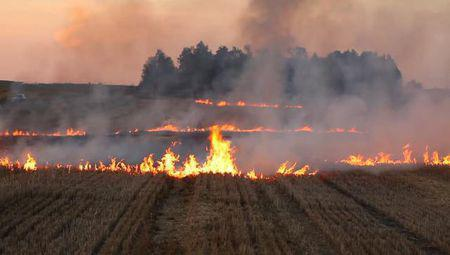fire: (1, 123, 356, 135), (151, 129, 241, 176), (1, 155, 156, 170), (187, 91, 304, 110), (344, 149, 448, 165), (250, 165, 317, 177)
